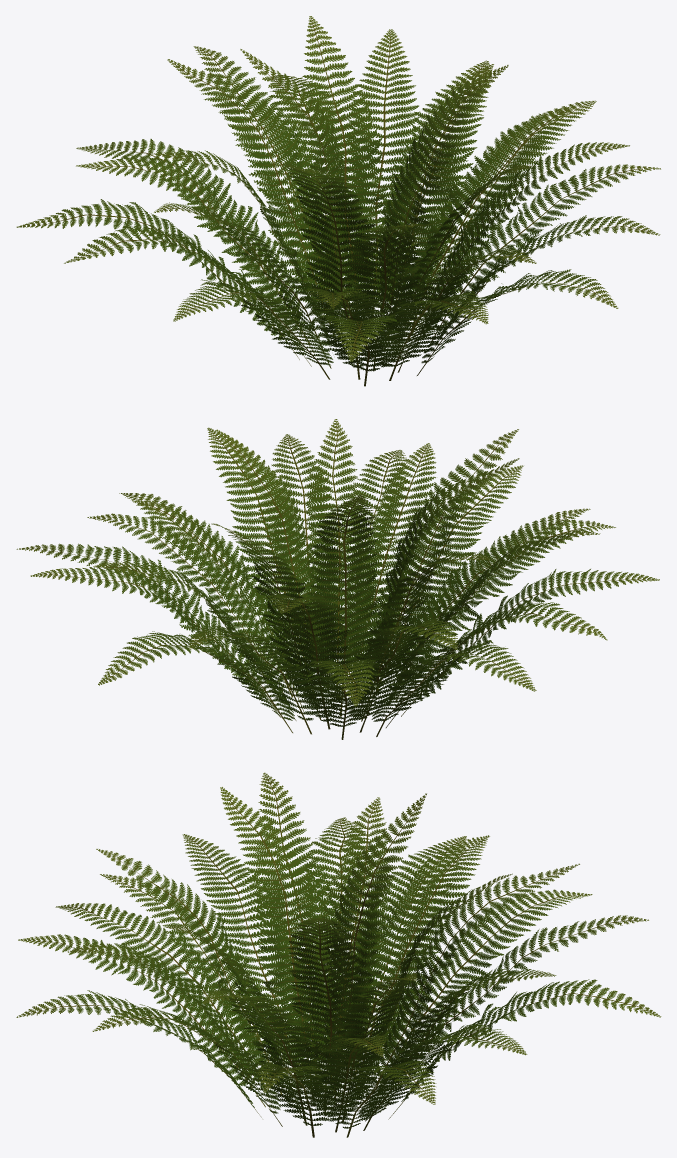
Rendered from matteuccia_struthiopteris_c001_lod1.gltf.
The picture shows the model from 3 angles, top to bottom: view 1: azimuth 30°, elevation 25°; view 2: azimuth 150°, elevation 25°; view 3: azimuth 270°, elevation 25°; orthographic projection. The views are drawn at different scales.
Visible parts, largest first — view 1: Matteuccia_struthiopteris__C001; view 2: Matteuccia_struthiopteris__C001; view 3: Matteuccia_struthiopteris__C001.
Part boxes in pixels (left/top/right/bottom): Matteuccia_struthiopteris__C001: left=16, top=16, right=660, bottom=386; Matteuccia_struthiopteris__C001: left=16, top=419, right=659, bottom=739; Matteuccia_struthiopteris__C001: left=16, top=772, right=661, bottom=1137.
Bounding box in the file's own units: 1.83 × 0.8824 × 1.81.
1 material, 1 textured.
